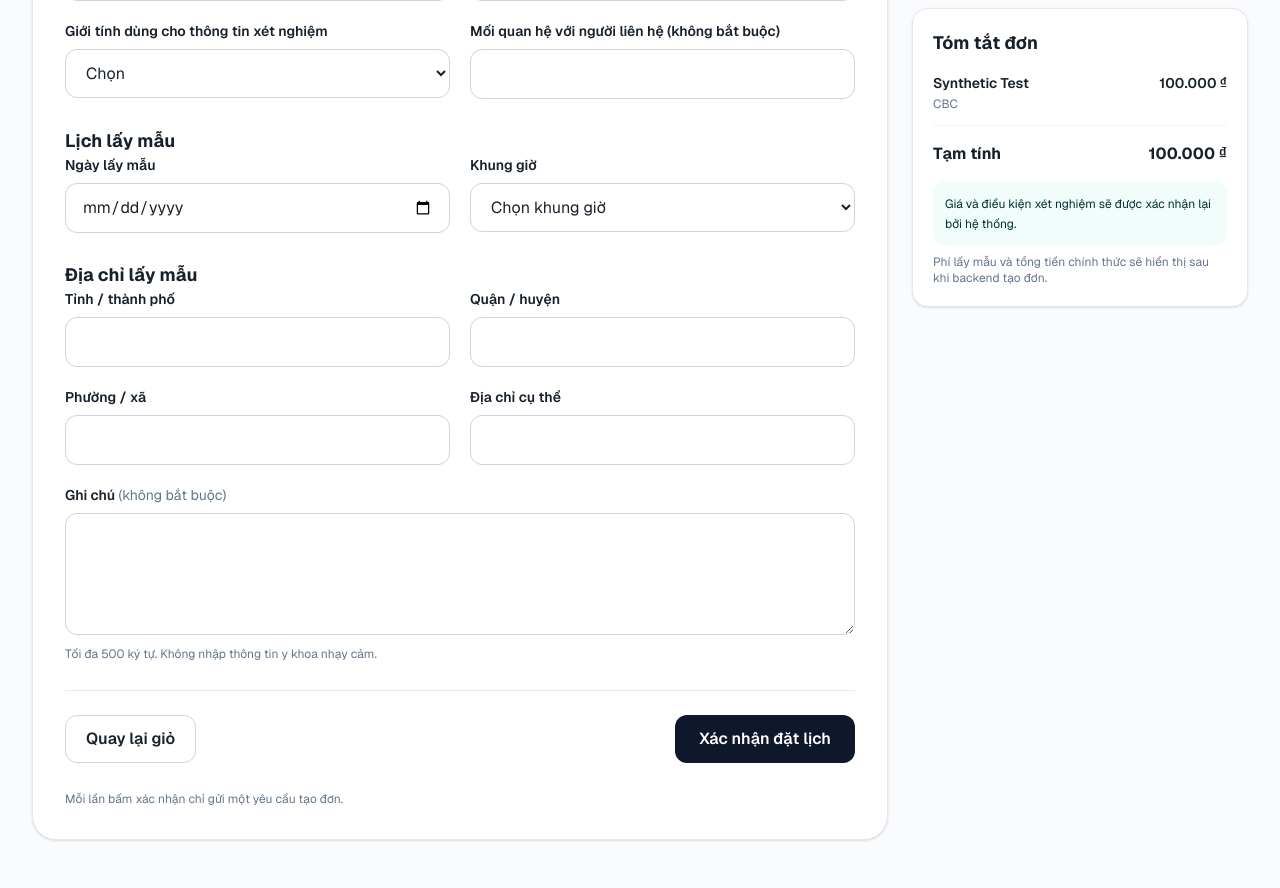
booking flow security integration › shows field errors before sending an invalid form
(page scrolled)
Click the button "Xác nhận đặt lịch".
click(765, 739)  # box left=675, top=715, right=855, bottom=763
(page scrolled)
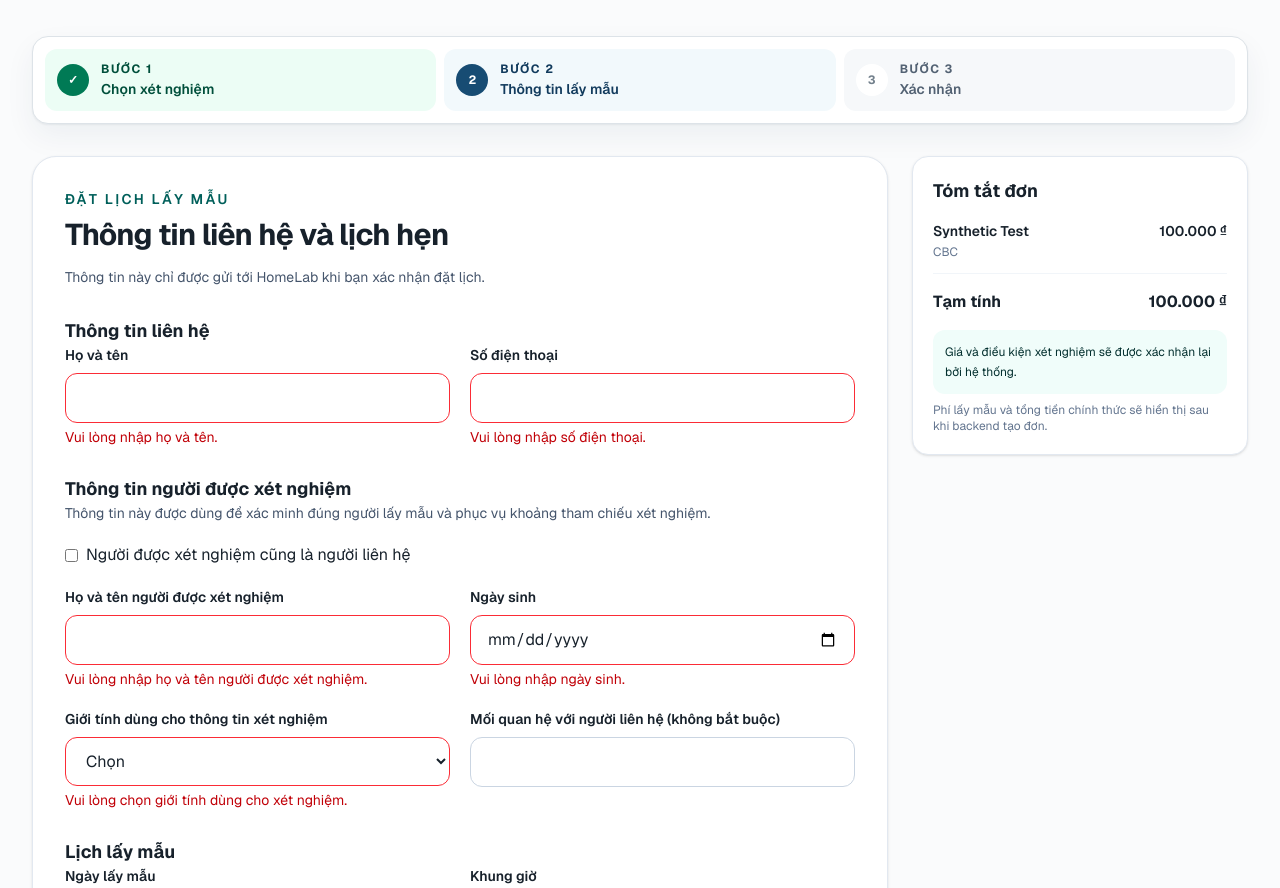
expect the text "Vui lòng nhập họ và tên." is shown: met, box left=65, top=428, right=217, bottom=446
expect the text "Vui lòng nhập số điện thoại." is shown: met, box left=470, top=428, right=646, bottom=446
